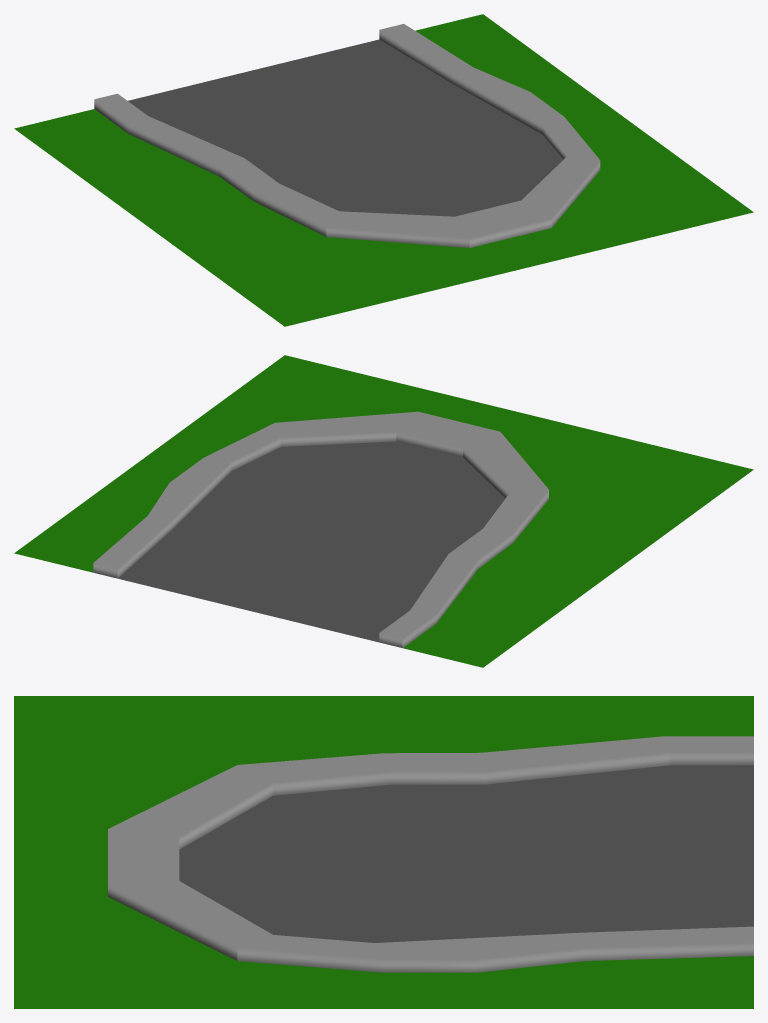
File: ground_pathEndClosed.fbx
3 renders of one model, top to bottom at view 1: azimuth 30°, elevation 25°; view 2: azimuth 150°, elevation 25°; view 3: azimuth 270°, elevation 25°, orthographic. The views are drawn at different scales.
Parts seen in each view (by area): view 1: ground_pathEndClosed; view 2: ground_pathEndClosed; view 3: ground_pathEndClosed.
Boxes of the visible parts, <box> form: ground_pathEndClosed: <box>14,14,753,326</box>; ground_pathEndClosed: <box>14,355,753,667</box>; ground_pathEndClosed: <box>14,696,753,1008</box>.
Bounding box in the file's own units: 100 × 1.97 × 100.
